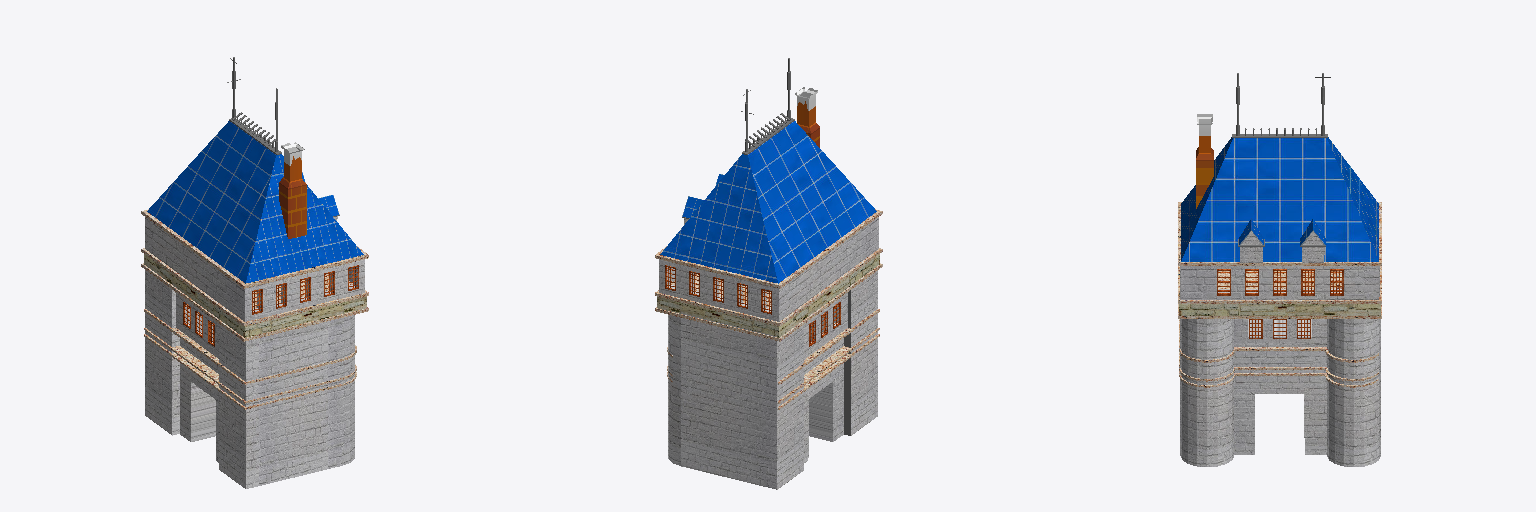
The picture shows the model from 3 angles: view 1: azimuth 30°, elevation 25°; view 2: azimuth 150°, elevation 25°; view 3: azimuth 270°, elevation 25°; orthographic projection.
Parts seen in each view (by area): view 1: Object.1; view 2: Object.1; view 3: Object.1.
Boxes of the visible parts, x1,y1,x2,y2 form: Object.1: [141, 57, 368, 488]; Object.1: [655, 58, 882, 489]; Object.1: [1178, 73, 1381, 466].
Bounding box in the file's own units: 32.42 × 89.23 × 45.29.
8 materials, 6 textured.